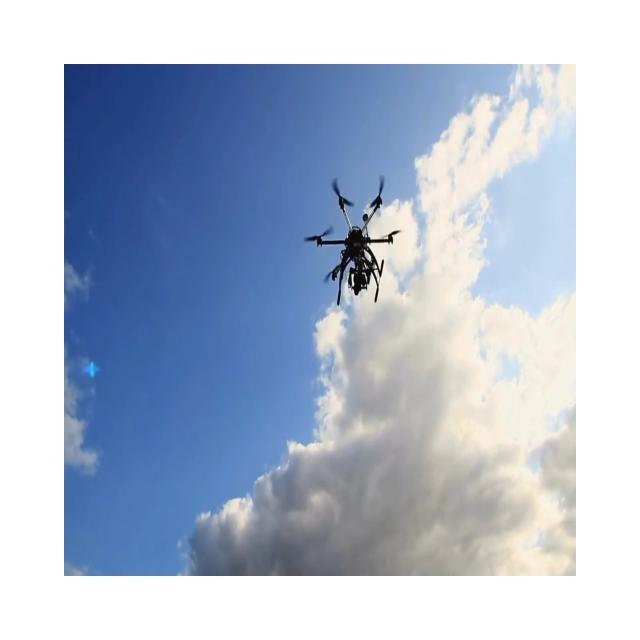drone: (304, 174, 402, 306)
